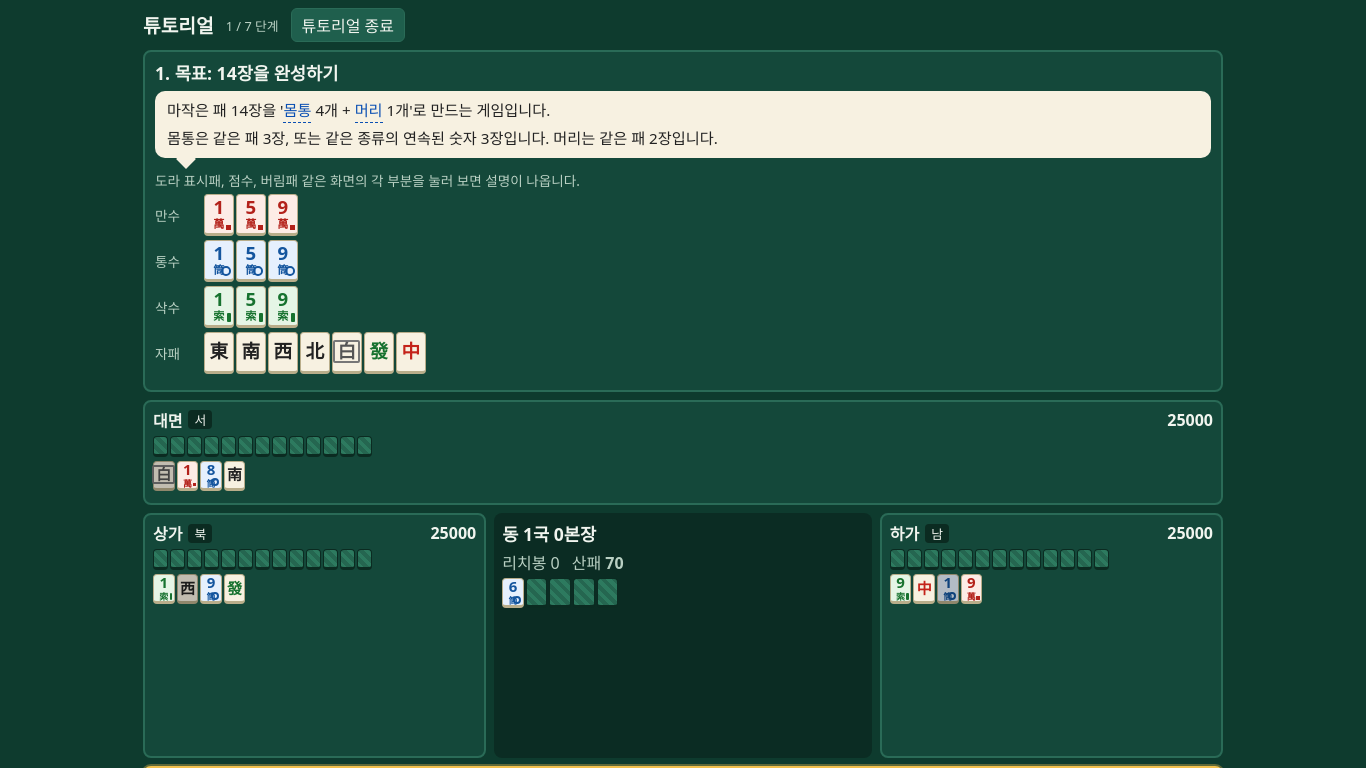
좌석별 기본 버림패와 쯔모기리/테다시 설명 › 쯔모기리 패와 테다시 패를 누르면 서로 다른 설명이 뜨고 Tab 순서는 종류별 첫 번째만 들어간다
What coordinates should you click on to do the following:
click the button named "쯔모기리 패 설명 보기"
I would click on:
 (164, 476)
Its box is left=153, top=461, right=175, bottom=491.
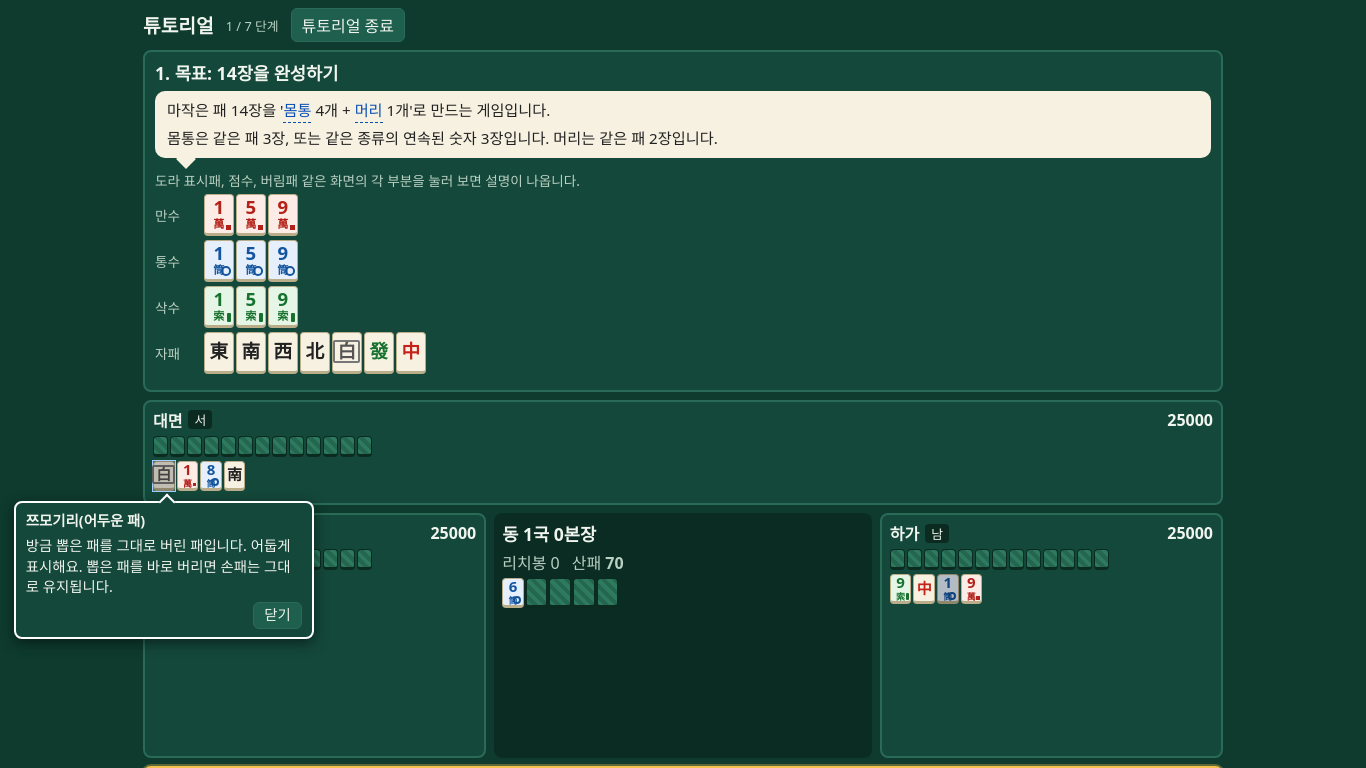
Result: the dialog shows "쯔모기리" at left=26, top=511, right=145, bottom=530
Result: the dialog shows "그대로 버린" at left=26, top=536, right=290, bottom=596
What coordinates should you click on to do the following:
click the button named "테다시 패 설명 보기"
I would click on:
 (187, 476)
Its box is left=177, top=461, right=198, bottom=491.
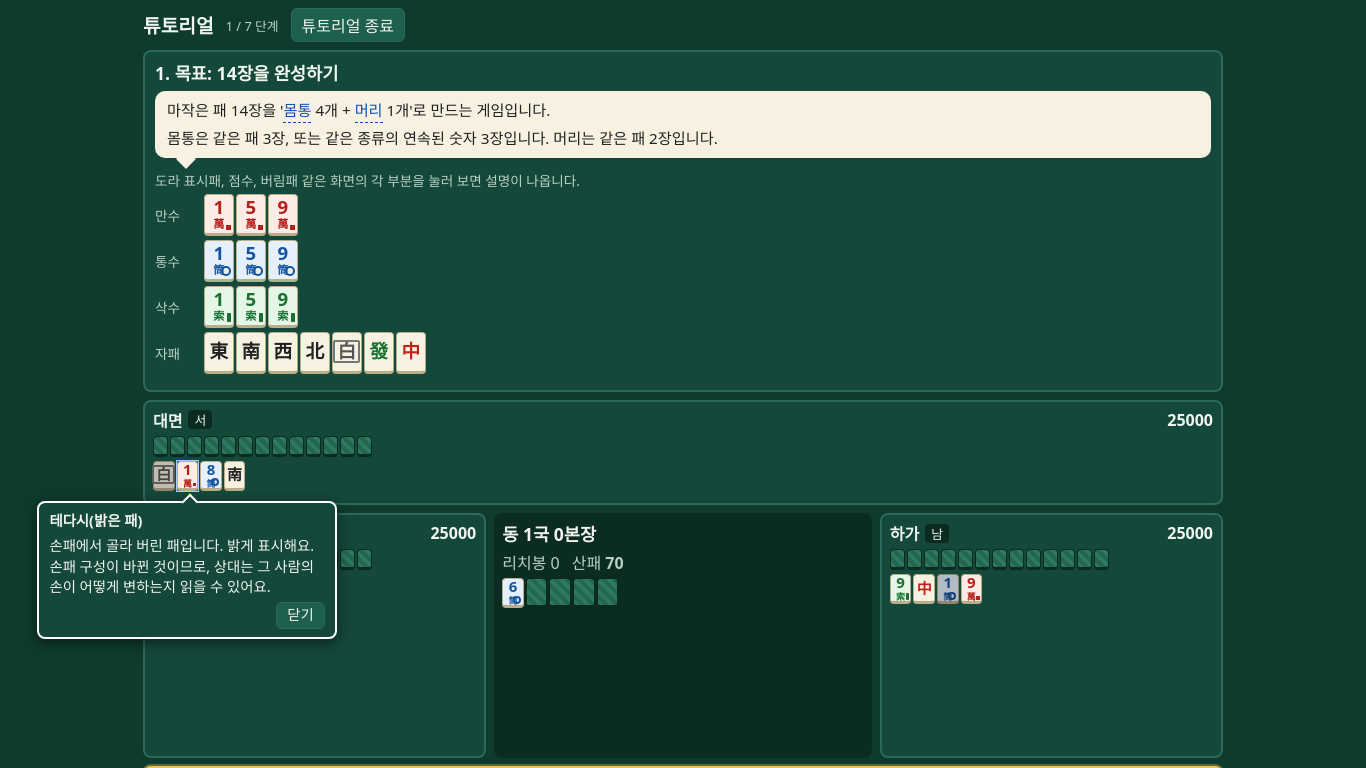
Result: the dialog shows "테다시" at left=49, top=511, right=142, bottom=530
Result: the dialog shows "손패에서 골라" at left=49, top=536, right=314, bottom=596
